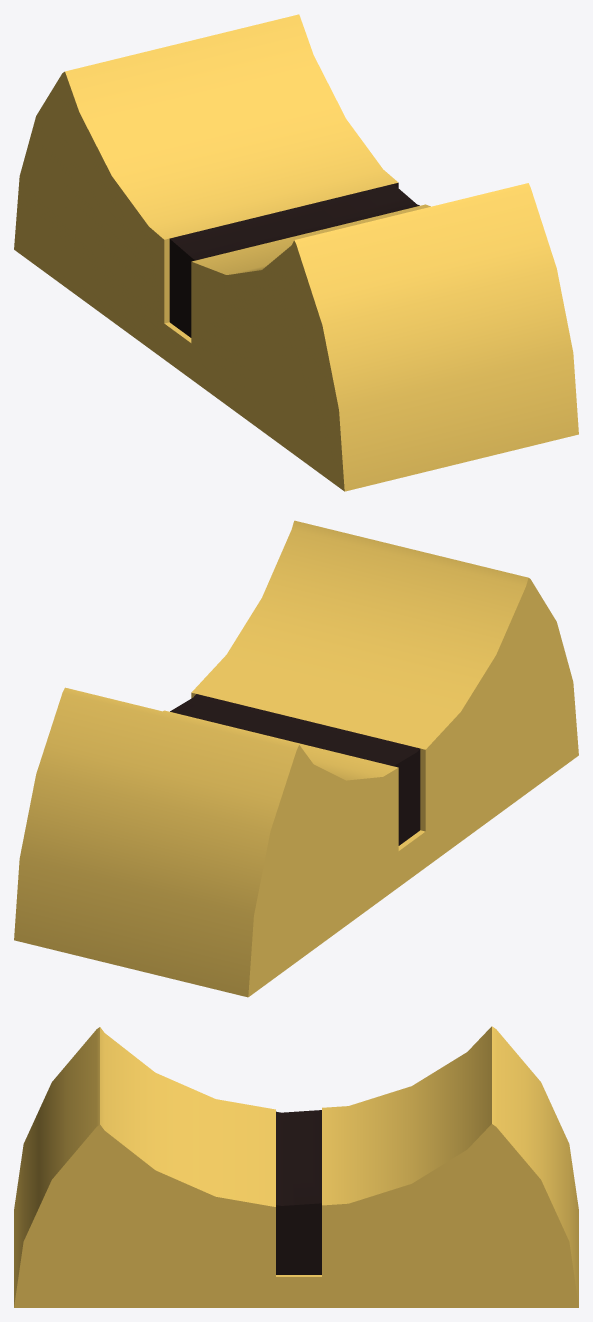
File: slider.fbx
3 views of the same model, one above another, from view 1: azimuth 30°, elevation 25°; view 2: azimuth 150°, elevation 25°; view 3: azimuth 270°, elevation 25° (orthographic). The views are drawn at different scales.
Visible parts, largest first — view 1: Model; view 2: Model; view 3: Model.
Boxes of the visible parts, bbox=[...] form: Model: bbox=[14, 14, 578, 491]; Model: bbox=[14, 520, 578, 997]; Model: bbox=[14, 1026, 578, 1307].
Size of the model in its own units: 9 by 7.91 by 22.
